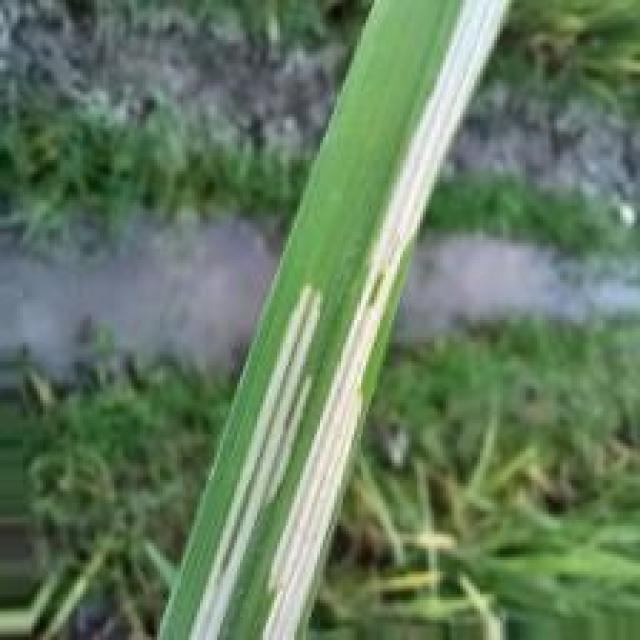Rice_Hispa: (258, 0, 513, 640), (188, 292, 322, 640)
